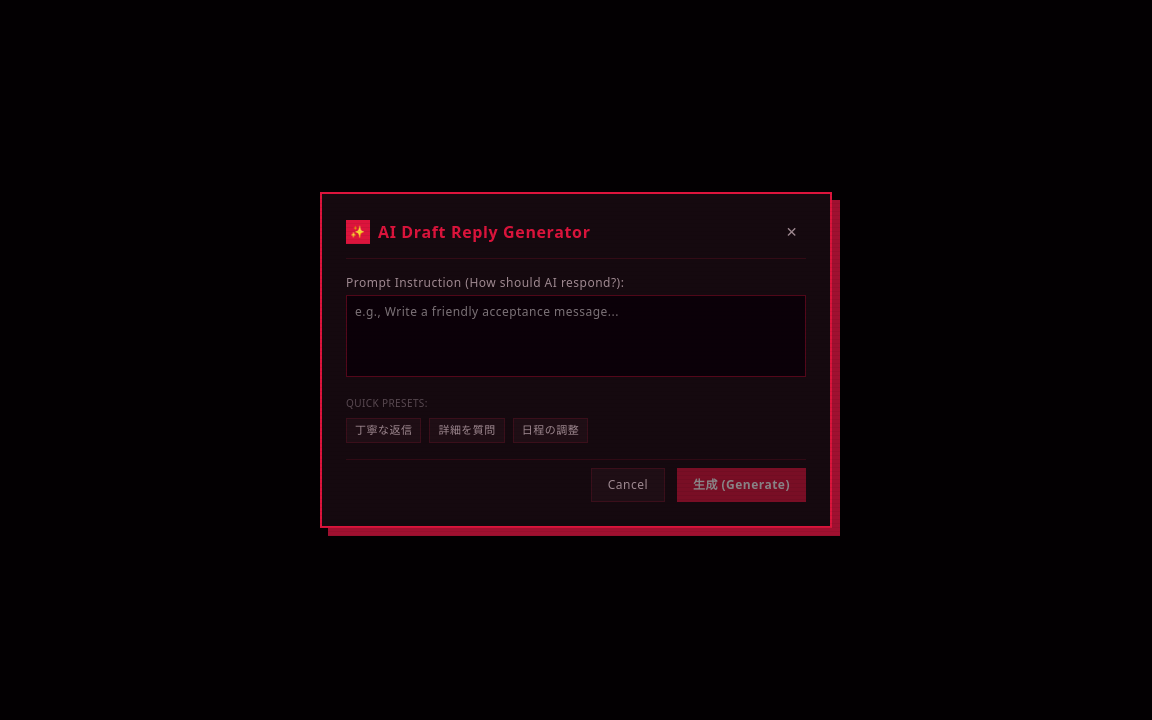
AIDraftModal Component › Tier 1: Feature Coverage › populates prompt textarea when a quick preset button is clicked
This screenshot has width=1152, height=720.
What coordinates should you click on to do the following:
click the button with test id "preset-prompt-0"
I would click on:
 (384, 431)
Its box is [346,418,421,443].
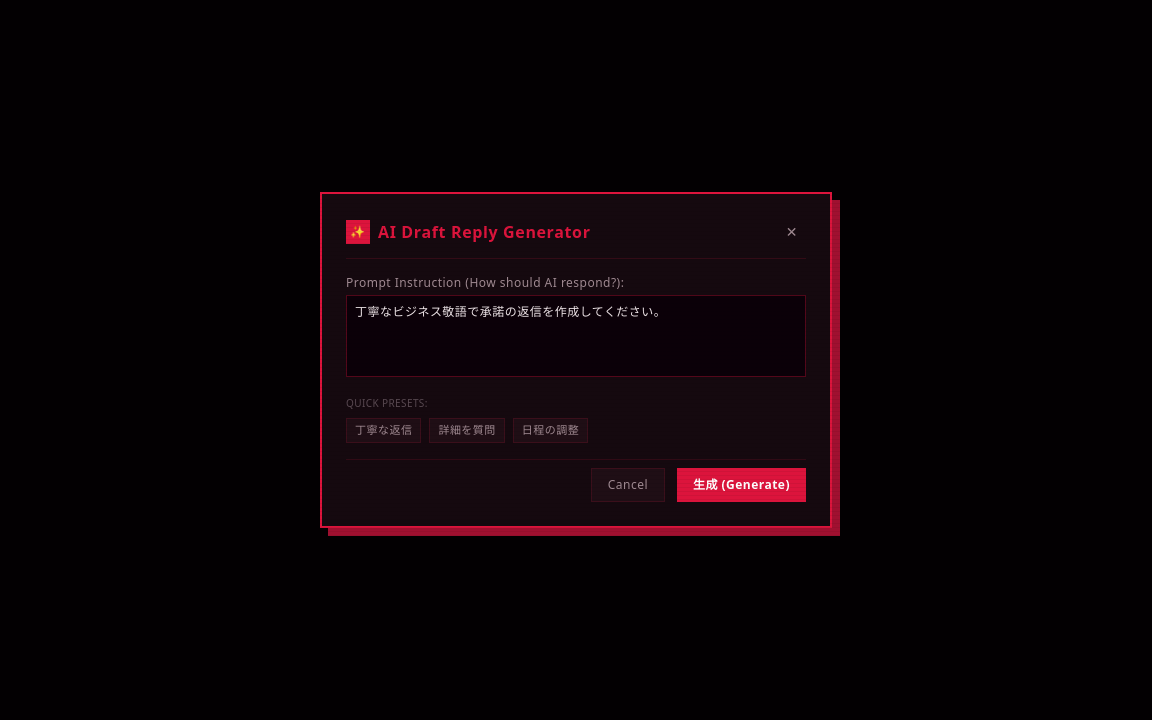
Now the text box with test id "ai-draft-prompt-textarea" holds "丁寧なビジネス敬語で承諾の返信を作成してください。", box [346,295,806,377]
